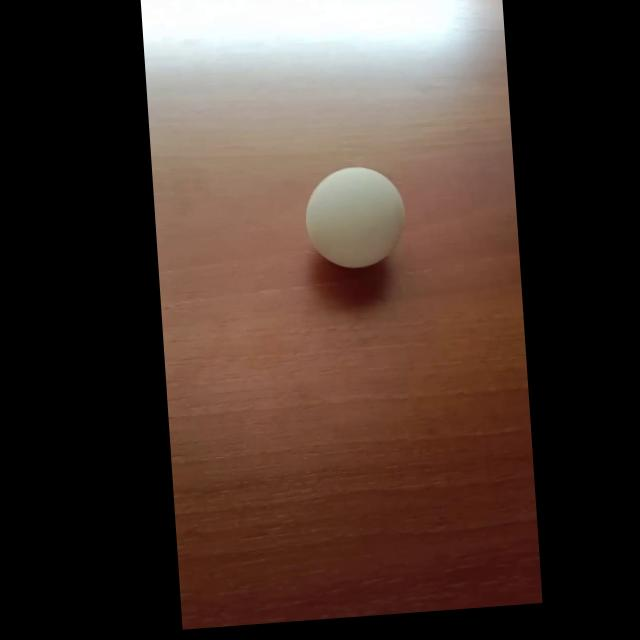white ball: (302, 162, 409, 272)
